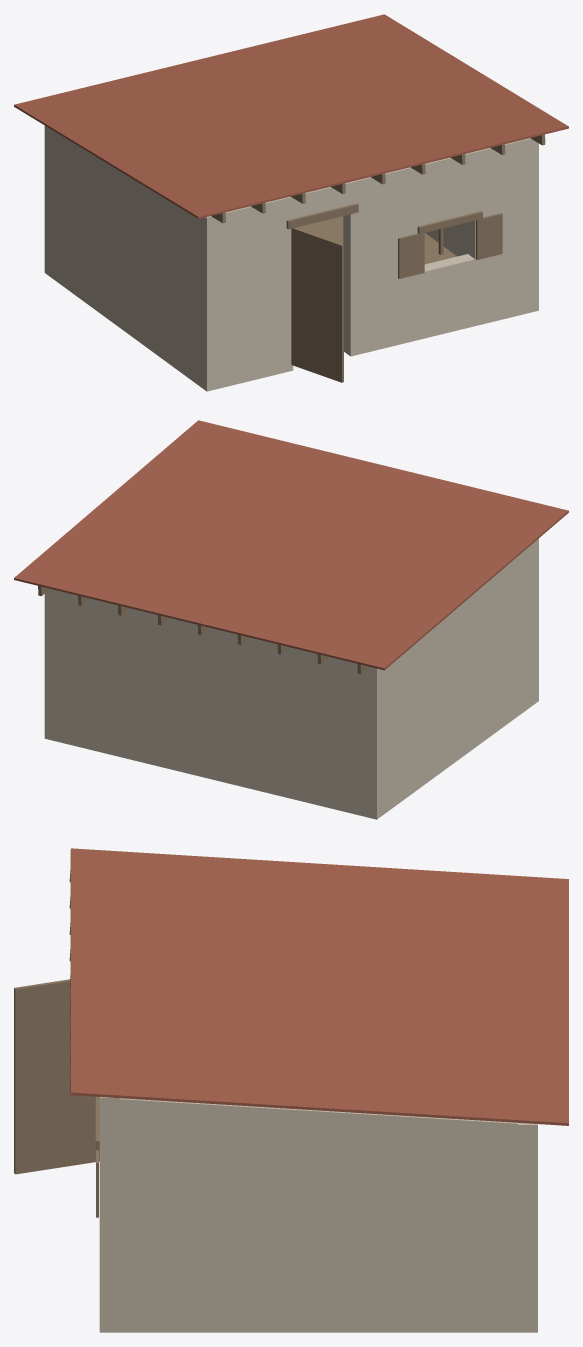
The model's file is Hut.glb.
3 renders of one model, top to bottom at view 1: azimuth 30°, elevation 25°; view 2: azimuth 150°, elevation 25°; view 3: azimuth 270°, elevation 25°, orthographic. The views are drawn at different scales.
Parts seen in each view (by area): view 1: Hut.Walls, Hut.Roof, Hut.Door, Hut.Shutters, Hut.Lintels, Hut.Floor, Hut.Rafters; view 2: Hut.Roof, Hut.Walls, Hut.Rafters; view 3: Hut.Roof, Hut.Walls, Hut.Door.
Boxes of the visible parts, <box> form: Hut.Walls: <box>44,125,538,391</box>; Hut.Roof: <box>14,14,568,218</box>; Hut.Door: <box>291,228,343,382</box>; Hut.Shutters: <box>398,213,502,278</box>; Hut.Lintels: <box>286,203,482,234</box>; Hut.Floor: <box>296,216,456,264</box>; Hut.Rafters: <box>211,134,545,223</box>; Hut.Roof: <box>14,420,568,670</box>; Hut.Walls: <box>44,538,538,819</box>; Hut.Rafters: <box>38,586,369,673</box>; Hut.Roof: <box>70,848,568,1125</box>; Hut.Walls: <box>99,1097,537,1332</box>; Hut.Door: <box>14,979,99,1174</box>.
Size of what is drawn, in the model's own units: 5.8 by 2.8 by 5.57.
